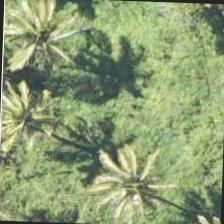Kelapa_Sawit: (1, 0, 92, 88), (81, 142, 175, 223), (0, 73, 70, 166)
